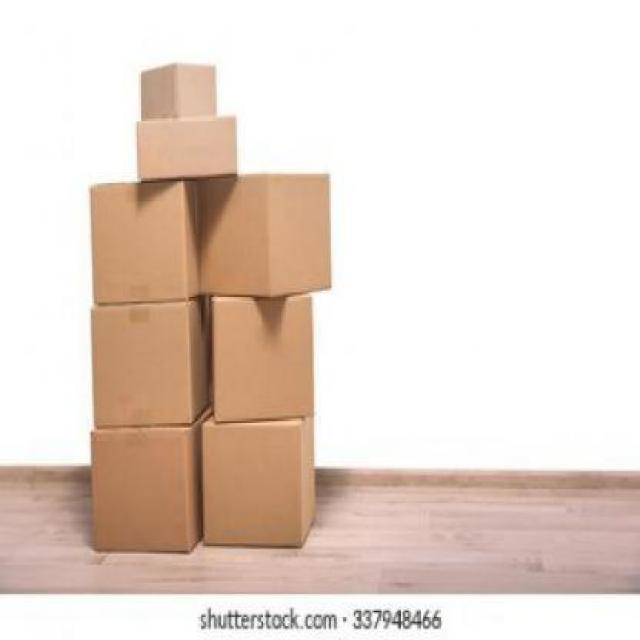box: (194, 409, 331, 558), (194, 166, 344, 302), (82, 416, 206, 564), (84, 172, 204, 306), (82, 297, 209, 423), (204, 288, 319, 426), (126, 108, 246, 182), (138, 49, 219, 131)
